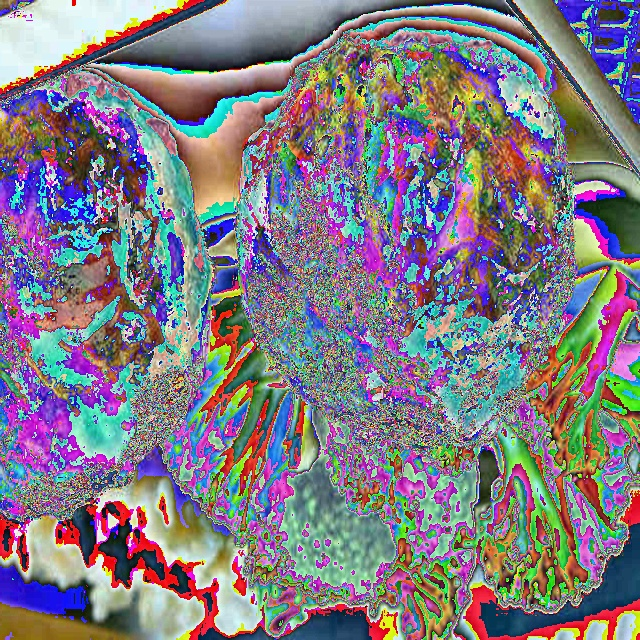background: (0, 33, 640, 639)
